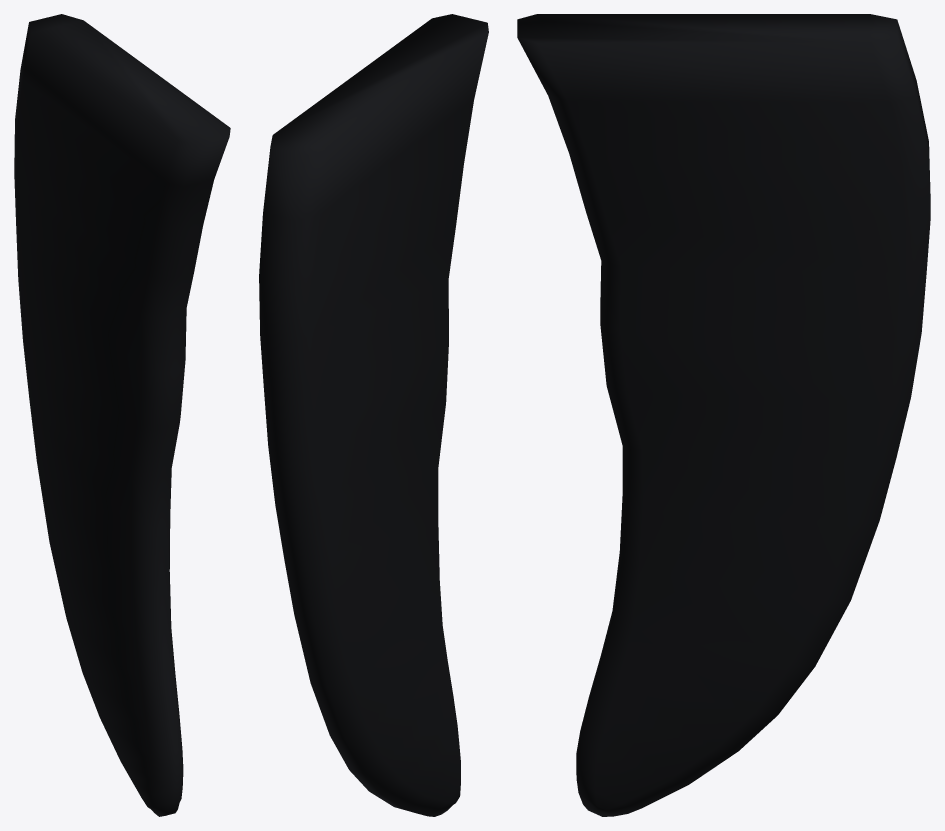
File: Flippers00.fbx
3 views of the same model, side by side, from view 1: azimuth 30°, elevation 25°; view 2: azimuth 150°, elevation 25°; view 3: azimuth 270°, elevation 25° (orthographic). The views are drawn at different scales.
Parts seen in each view (by area): view 1: flipper; view 2: flipper; view 3: flipper.
Boxes of the visible parts, <box> form: flipper: <box>14,14,230,816</box>; flipper: <box>259,14,488,816</box>; flipper: <box>517,14,930,816</box>.
Bounding box in the file's own units: 0.00471 × 0.06 × 0.0284.
